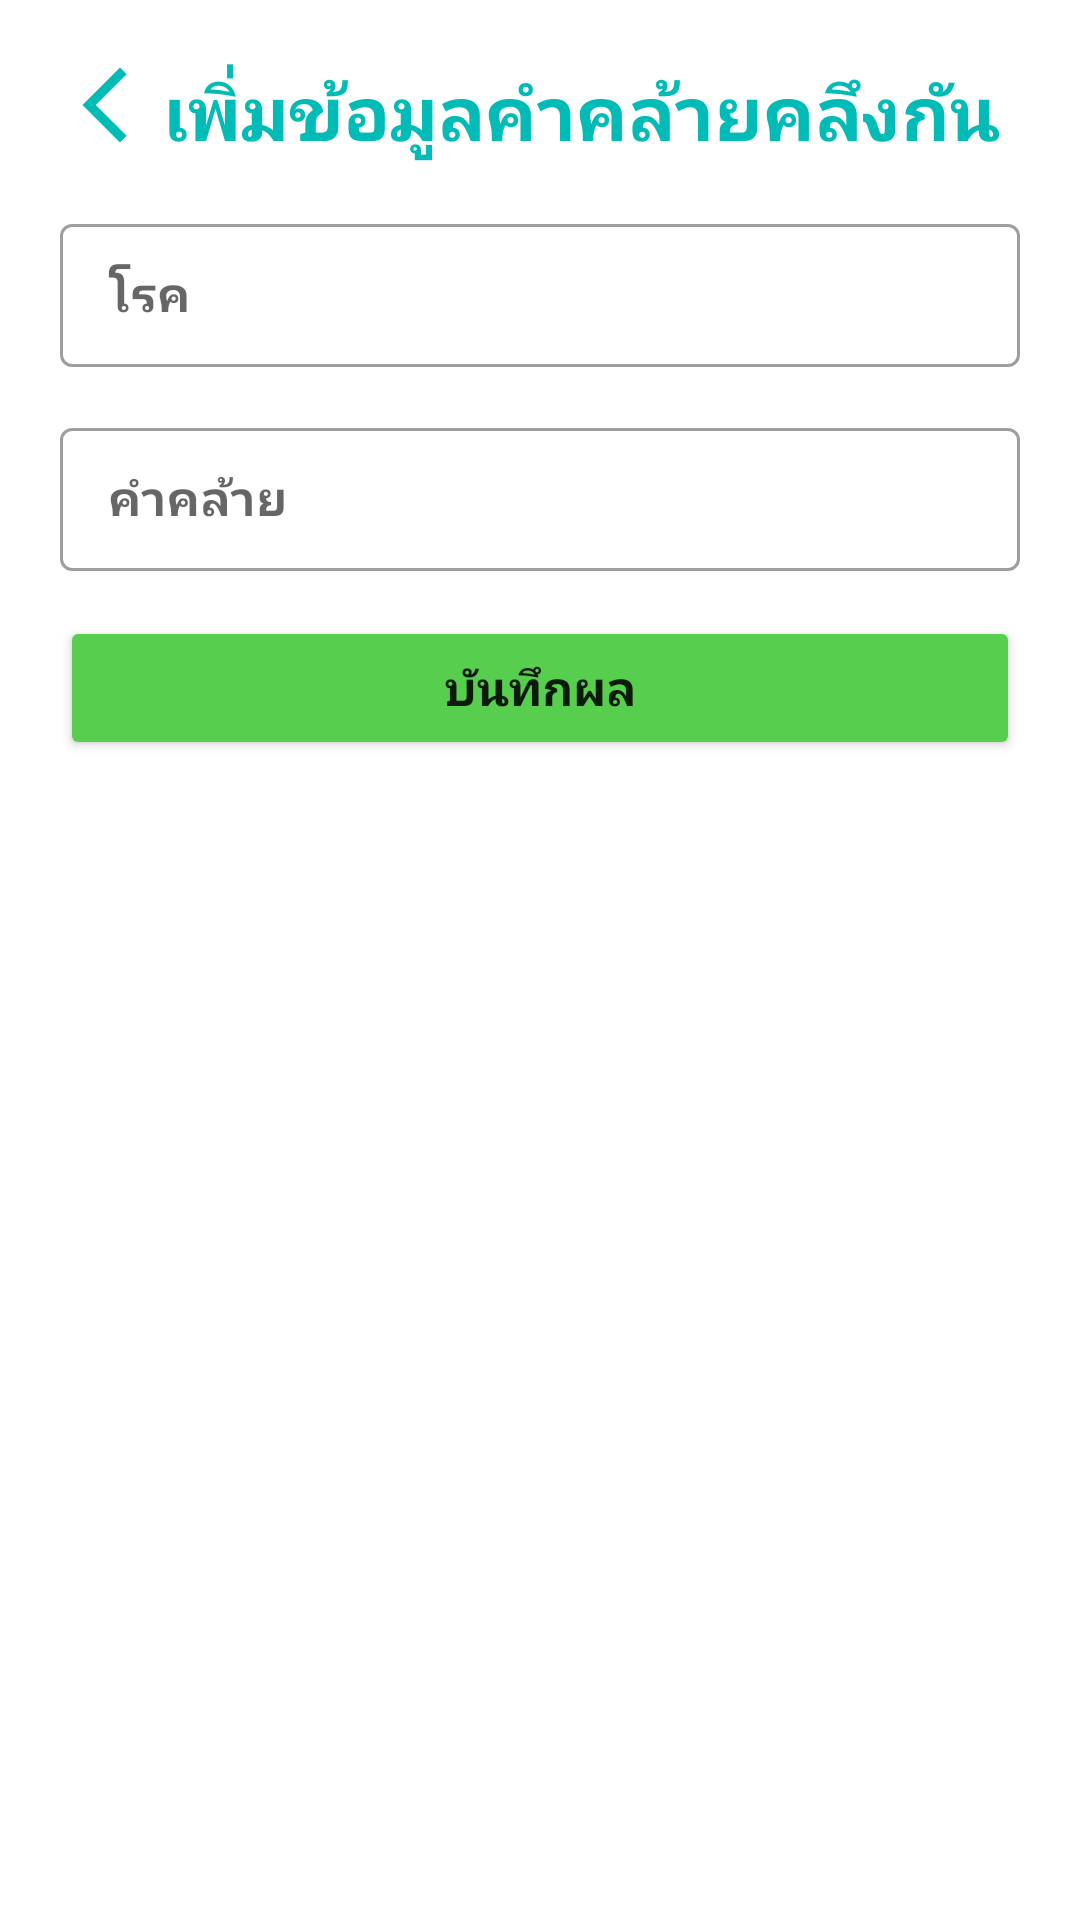

Named icons in this screenshot (1080 × 1920) and their bounding boxes, (left=x1, top=y1, right=x2, bottom=y2):
arrow back: (left=82, top=67, right=127, bottom=143)
